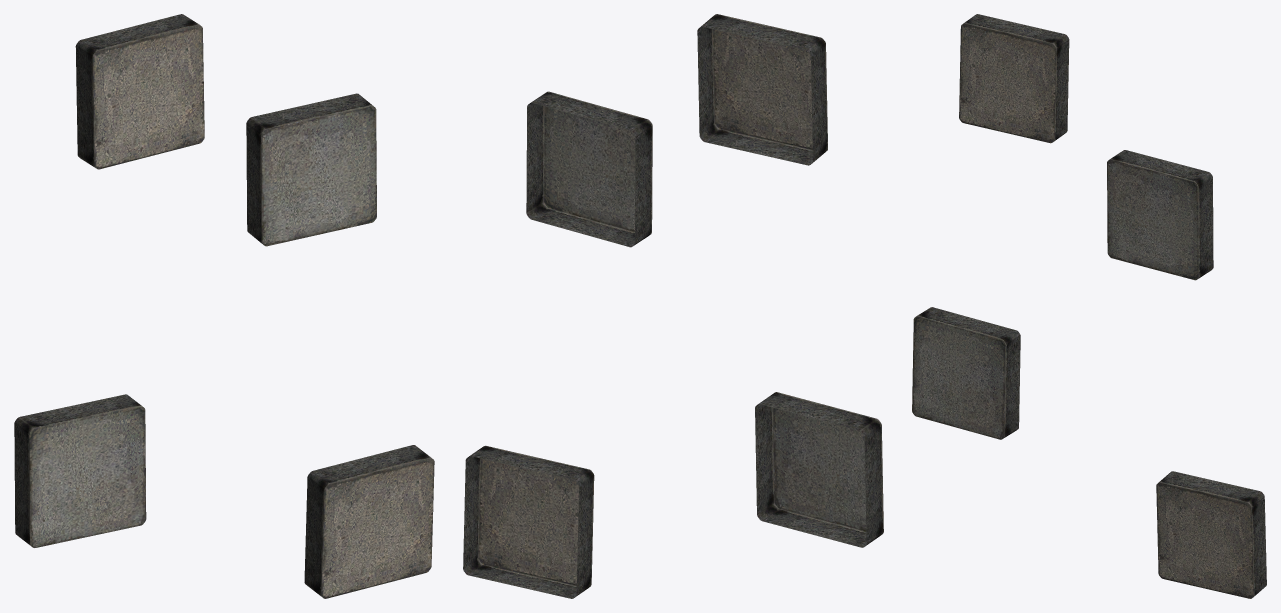
File: hd_dec_UNI_003_PavingDirected_vertical_01.glb
The picture shows the model from 3 angles, left to right: view 1: azimuth 30°, elevation 25°; view 2: azimuth 150°, elevation 25°; view 3: azimuth 330°, elevation 25°; orthographic projection. The views are drawn at different scales.
Visible parts, largest first — view 1: set_0_group_0; view 2: set_0_group_0; view 3: set_0_group_0.
Part boxes in pixels (box(x1,y1,x2,y2)): set_0_group_0: box(14, 14, 434, 598); set_0_group_0: box(463, 14, 883, 598); set_0_group_0: box(912, 14, 1266, 598).
Bounding box in the file's own units: 1.73 × 2.48 × 0.173.
Materials: 1 (1 with a texture image).
